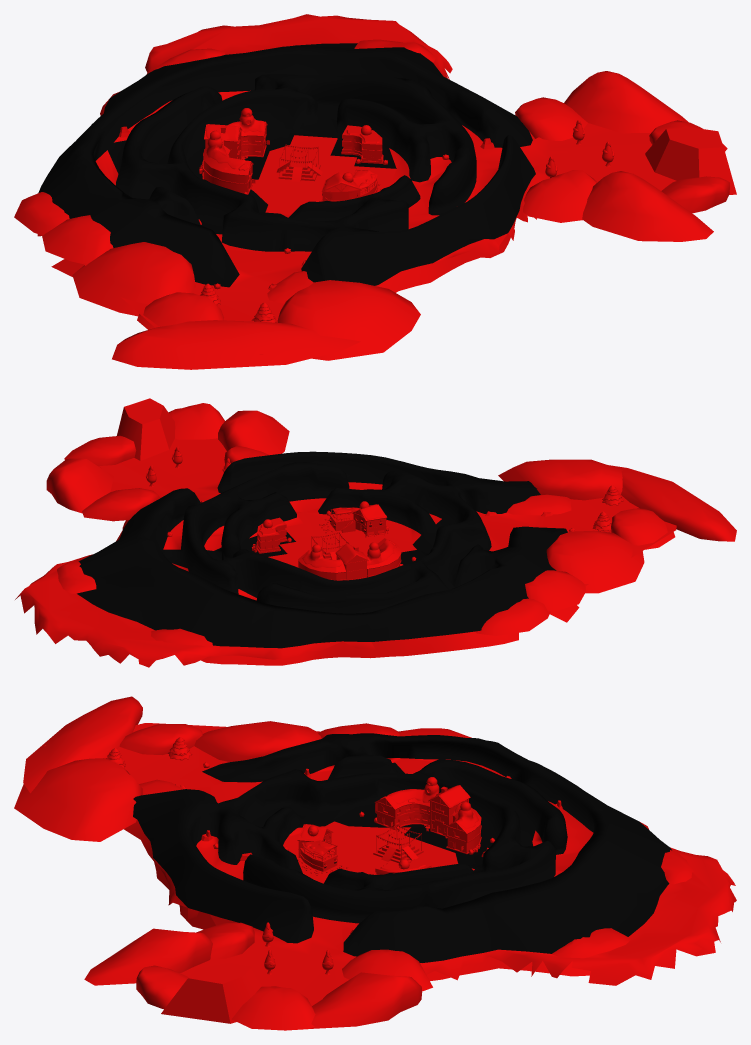
The model's file is Individual_NothingHappeningHereSquare_02.glb.
The picture shows the model from 3 angles, top to bottom: view 1: azimuth 30°, elevation 25°; view 2: azimuth 150°, elevation 25°; view 3: azimuth 270°, elevation 25°; orthographic projection. The views are drawn at different scales.
Parts seen in each view (by area): view 1: polySurface1, pasted__SnowPatch13, pasted__SnowPatch14, pasted__SnowPatch12, pasted__SnowPatch16, pasted__SnowPatch8, pasted__Object_IceRock3, pasted__SnowPatch9, pasted__SnowPatch3, pasted__SnowPatch11, pasted__SnowPatch10, polySurface3 (+11 smaller); view 2: polySurface1, pasted__SnowPatch12, pasted__SnowPatch13, polySurface3, pasted__SnowPatch14, pasted__SnowPatch8, pasted__Object_IceRock3, pasted__SnowPatch16, pasted__SnowPatch3, pasted__SnowPatch11, pasted__SnowPatch10, pasted__SnowPatch4 (+11 smaller); view 3: polySurface1, pasted__SnowPatch14, pasted__SnowPatch13, pasted__SnowPatch8, pasted__SnowPatch16, pasted__Object_IceRock3, pasted__SnowPatch12, pasted__SnowPatch15, polySurface3, pasted__Building_Lounge, pasted__SnowPatch10, pasted__SnowPatch11 (+9 smaller).
Part boxes in pixels (left/top/right/bottom): polySurface1: left=38, top=14, right=676, bottom=354; pasted__SnowPatch13: left=112, top=320, right=360, bottom=369; pasted__SnowPatch14: left=277, top=280, right=420, bottom=360; pasted__SnowPatch12: left=72, top=242, right=195, bottom=316; pasted__SnowPatch16: left=582, top=171, right=713, bottom=241; pasted__SnowPatch8: left=564, top=71, right=688, bottom=133; pasted__Object_IceRock3: left=645, top=127, right=736, bottom=194; pasted__SnowPatch9: left=523, top=170, right=597, bottom=222; pasted__SnowPatch3: left=42, top=215, right=113, bottom=263; pasted__SnowPatch11: left=137, top=292, right=223, bottom=329; pasted__SnowPatch10: left=515, top=97, right=587, bottom=140; polySurface3: left=37, top=217, right=516, bottom=292; polySurface1: left=15, top=438, right=677, bottom=667; pasted__SnowPatch12: left=546, top=530, right=644, bottom=593; pasted__SnowPatch13: left=609, top=465, right=736, bottom=541; polySurface3: left=201, top=605, right=579, bottom=665; pasted__SnowPatch14: left=498, top=459, right=623, bottom=500; pasted__SnowPatch8: left=46, top=458, right=113, bottom=513; pasted__Object_IceRock3: left=117, top=398, right=175, bottom=460; pasted__SnowPatch16: left=218, top=410, right=289, bottom=454; pasted__SnowPatch3: left=525, top=570, right=585, bottom=611; pasted__SnowPatch11: left=611, top=508, right=675, bottom=549; pasted__SnowPatch10: left=82, top=488, right=159, bottom=521; pasted__SnowPatch4: left=475, top=598, right=550, bottom=635; polySurface1: left=44, top=723, right=736, bottom=1005; pasted__SnowPatch14: left=14, top=758, right=142, bottom=841; pasted__SnowPatch13: left=23, top=696, right=142, bottom=793; pasted__SnowPatch8: left=309, top=972, right=422, bottom=1028; pasted__SnowPatch16: left=84, top=928, right=212, bottom=985; pasted__Object_IceRock3: left=161, top=962, right=270, bottom=1023; pasted__SnowPatch12: left=194, top=721, right=321, bottom=761; pasted__SnowPatch15: left=231, top=986, right=315, bottom=1030; polySurface3: left=124, top=819, right=590, bottom=980; pasted__Building_Lounge: left=297, top=785, right=470, bottom=871; pasted__SnowPatch10: left=342, top=949, right=432, bottom=991; pasted__SnowPatch11: left=119, top=724, right=202, bottom=754.
Size of the model in its own units: 154 by 15.36 by 144.
